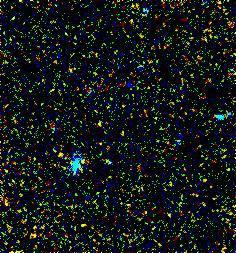star: (46, 141, 76, 171)
